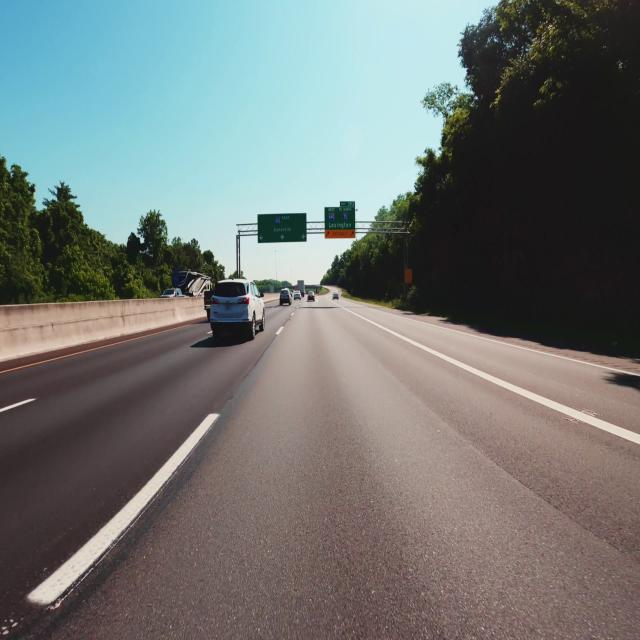car: (210, 279, 264, 340), (280, 288, 292, 305), (307, 291, 315, 301), (332, 291, 339, 300), (294, 291, 300, 300)
